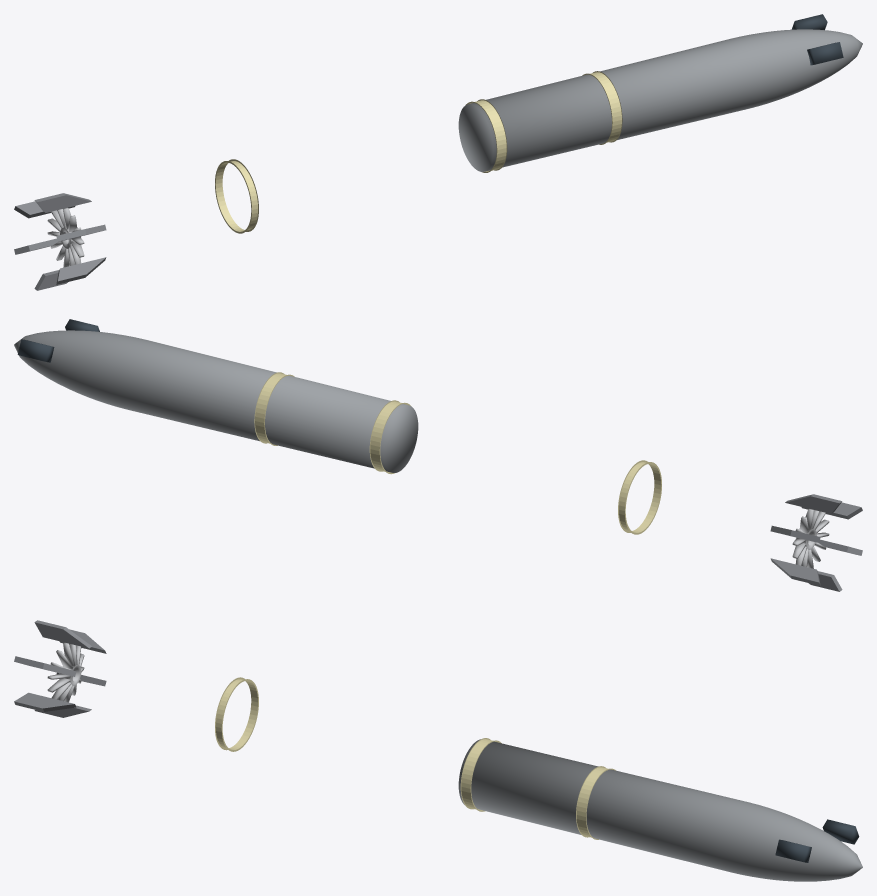
The model's file is RU_TORP_SET65_LOD0.fbx.
3 views of the same model, one above another, from view 1: azimuth 30°, elevation 25°; view 2: azimuth 150°, elevation 25°; view 3: azimuth 330°, elevation 25° (orthographic).
Visible parts, largest first — view 1: WPN_RU_TORP_SET65_LOD0_Body, WPN_RU_TORP_SET65_LOD0_Marking, WPN_RU_TORP_SET65_LOD0_Fins, WPN_RU_TORP_SET65_LOD0_Propulsor, WPN_RU_TORP_SET65_LOD0_Seeker; view 2: WPN_RU_TORP_SET65_LOD0_Body, WPN_RU_TORP_SET65_LOD0_Marking, WPN_RU_TORP_SET65_LOD0_Fins, WPN_RU_TORP_SET65_LOD0_Propulsor, WPN_RU_TORP_SET65_LOD0_Seeker; view 3: WPN_RU_TORP_SET65_LOD0_Body, WPN_RU_TORP_SET65_LOD0_Marking, WPN_RU_TORP_SET65_LOD0_Fins, WPN_RU_TORP_SET65_LOD0_Propulsor, WPN_RU_TORP_SET65_LOD0_Seeker.
Boxes of the visible parts, box(x1,y1,x2,y2) form: WPN_RU_TORP_SET65_LOD0_Body: box(458, 29, 862, 171); WPN_RU_TORP_SET65_LOD0_Marking: box(215, 71, 622, 233); WPN_RU_TORP_SET65_LOD0_Fins: box(14, 193, 106, 290); WPN_RU_TORP_SET65_LOD0_Propulsor: box(47, 207, 84, 267); WPN_RU_TORP_SET65_LOD0_Seeker: box(791, 14, 843, 65); WPN_RU_TORP_SET65_LOD0_Body: box(14, 330, 418, 472); WPN_RU_TORP_SET65_LOD0_Marking: box(254, 372, 661, 534); WPN_RU_TORP_SET65_LOD0_Fins: box(770, 494, 862, 591); WPN_RU_TORP_SET65_LOD0_Propulsor: box(792, 508, 829, 568); WPN_RU_TORP_SET65_LOD0_Seeker: box(17, 319, 99, 362); WPN_RU_TORP_SET65_LOD0_Body: box(458, 739, 862, 881); WPN_RU_TORP_SET65_LOD0_Marking: box(215, 677, 615, 839); WPN_RU_TORP_SET65_LOD0_Fins: box(14, 620, 106, 717); WPN_RU_TORP_SET65_LOD0_Propulsor: box(47, 642, 84, 702); WPN_RU_TORP_SET65_LOD0_Seeker: box(775, 819, 859, 862).
Size of the model in its own units: 7.03 by 0.6447 by 0.7199.
